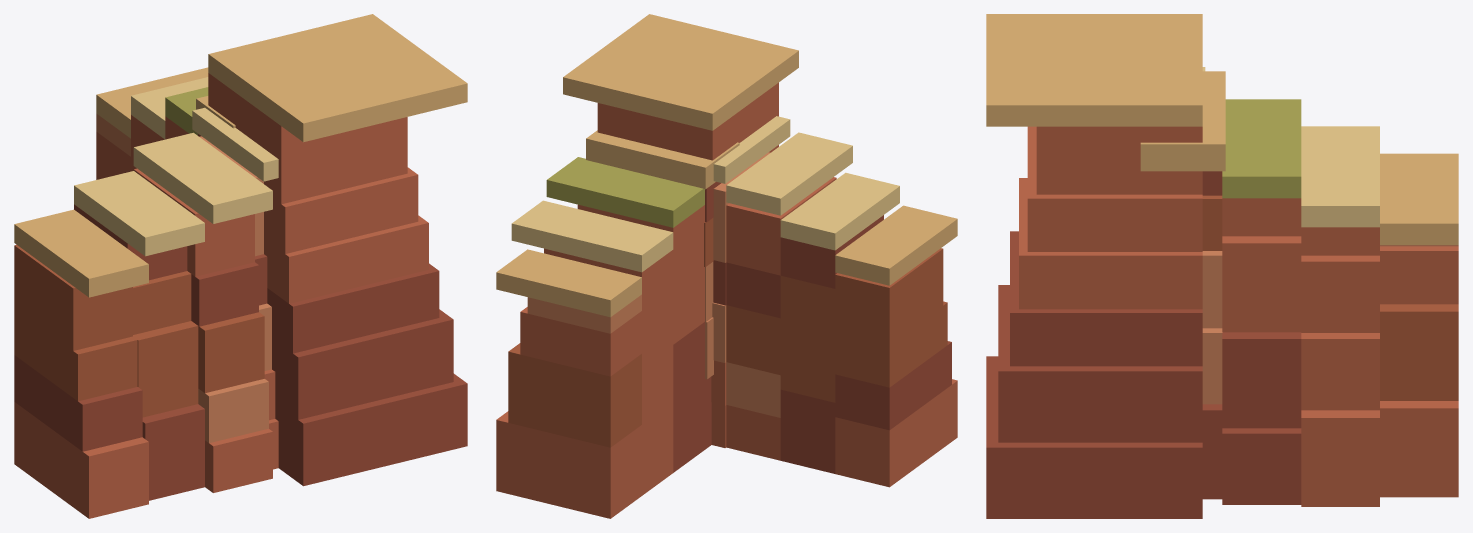
Rendered from DesertCornerRock.glb.
3 views of the same model, side by side, from view 1: azimuth 30°, elevation 25°; view 2: azimuth 150°, elevation 25°; view 3: azimuth 270°, elevation 25° (orthographic). The views are drawn at different scales.
Visible parts, largest first — view 1: DesertCornerRock; view 2: DesertCornerRock; view 3: DesertCornerRock.
Boxes of the visible parts, left/top/right/bottom form: DesertCornerRock: left=14, top=14, right=467, bottom=518; DesertCornerRock: left=496, top=14, right=957, bottom=518; DesertCornerRock: left=986, top=14, right=1458, bottom=518.
Size of the model in its own units: 12 by 11.6 by 12.
Materials: 1 (1 with a texture image).
